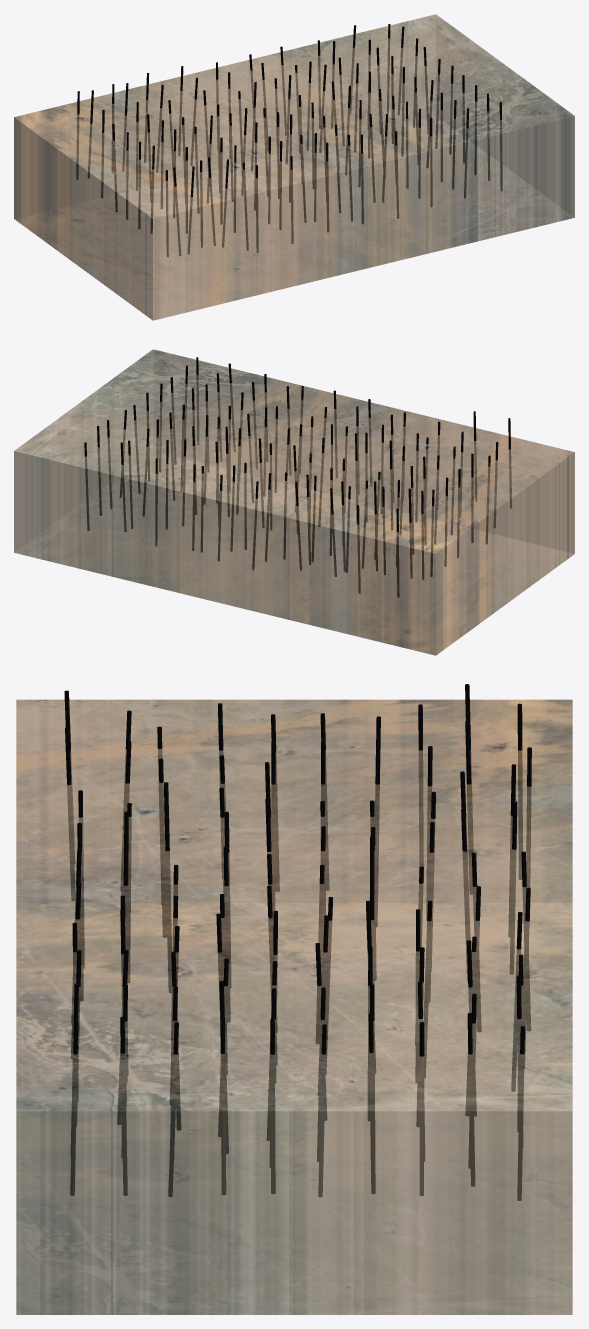
3 renders of one model, top to bottom at view 1: azimuth 30°, elevation 25°; view 2: azimuth 150°, elevation 25°; view 3: azimuth 270°, elevation 25°, orthographic. The views are drawn at different scales.
Parts seen in each view (by area): view 1: image_2026-07-06_13-10-01, Cylinder.045, Cylinder.040, Cylinder.047, Cylinder.050, Cylinder.042, Cylinder.069, Cylinder.046, Cylinder.058, Cylinder.063, Cylinder.048, Cylinder.059 (+5 smaller); view 2: image_2026-07-06_13-10-01, Cylinder.040, Cylinder.050, Cylinder.059, Cylinder.058, Cylinder.070, Cylinder.064, Cylinder.057, Cylinder.063, Cylinder.045, Cylinder.048, Cylinder.051 (+5 smaller); view 3: image_2026-07-06_13-10-01, Cylinder.069, Cylinder.055, Cylinder.058, Cylinder.070, Cylinder.050, Cylinder.060, Cylinder.066, Cylinder.040, Cylinder.052, Cylinder.057, Cylinder.063 (+14 smaller).
Boxes of the visible parts, x1,y1,x2,y2 form: image_2026-07-06_13-10-01: [14, 14, 574, 320]; Cylinder.045: [185, 137, 222, 233]; Cylinder.040: [88, 83, 128, 178]; Cylinder.047: [279, 133, 316, 229]; Cylinder.050: [188, 159, 228, 254]; Cylinder.042: [251, 75, 291, 170]; Cylinder.069: [76, 91, 104, 197]; Cylinder.046: [173, 157, 215, 255]; Cylinder.058: [144, 66, 183, 162]; Cylinder.063: [126, 132, 141, 229]; Cylinder.048: [326, 134, 363, 232]; Cylinder.059: [156, 77, 197, 172]; image_2026-07-06_13-10-01: [14, 349, 574, 655]; Cylinder.040: [374, 481, 412, 578]; Cylinder.050: [473, 411, 511, 508]; Cylinder.059: [306, 474, 345, 571]; Cylinder.058: [295, 481, 336, 576]; Cylinder.070: [357, 486, 385, 593]; Cylinder.064: [410, 456, 426, 554]; Cylinder.057: [252, 473, 271, 569]; Cylinder.063: [444, 469, 460, 566]; Cylinder.045: [399, 446, 439, 544]; Cylinder.048: [333, 390, 371, 486]; Cylinder.051: [381, 424, 418, 521]; image_2026-07-06_13-10-01: [16, 699, 572, 1314]; Cylinder.069: [418, 703, 522, 879]; Cylinder.055: [325, 897, 432, 1078]; Cylinder.058: [508, 764, 517, 974]; Cylinder.070: [426, 746, 531, 921]; Cylinder.050: [64, 690, 75, 900]; Cylinder.060: [475, 886, 530, 1067]; Cylinder.066: [157, 726, 166, 937]; Cylinder.040: [465, 684, 473, 894]; Cylinder.052: [223, 811, 231, 1022]; Cylinder.057: [471, 851, 530, 1031]; Cylinder.063: [271, 713, 329, 891].
Bounding box in the file's own units: 1.75 × 0.5345 × 1.
2 materials, 1 textured.
